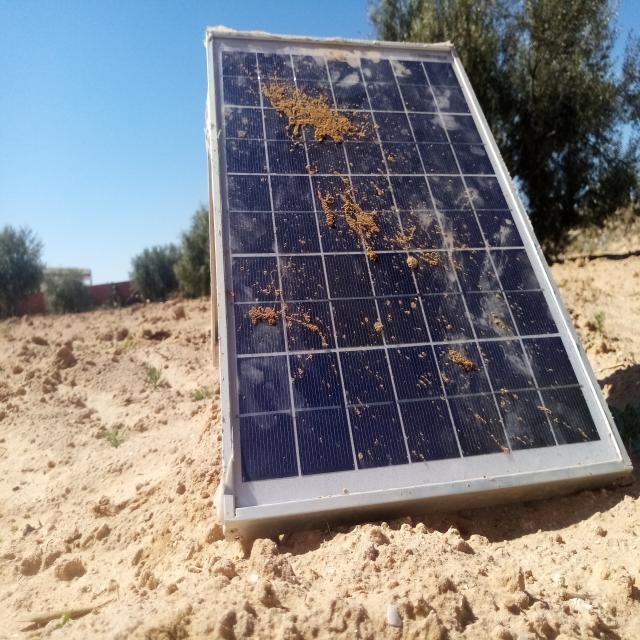faulty: (215, 39, 629, 515)
